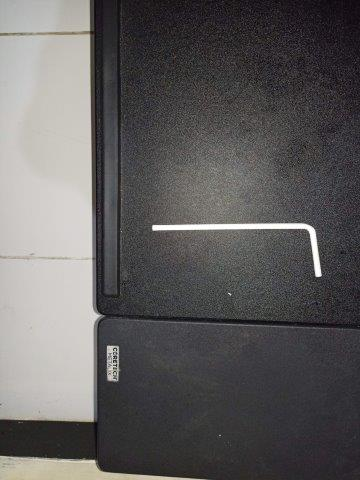sedotan: (153, 224, 323, 277)
